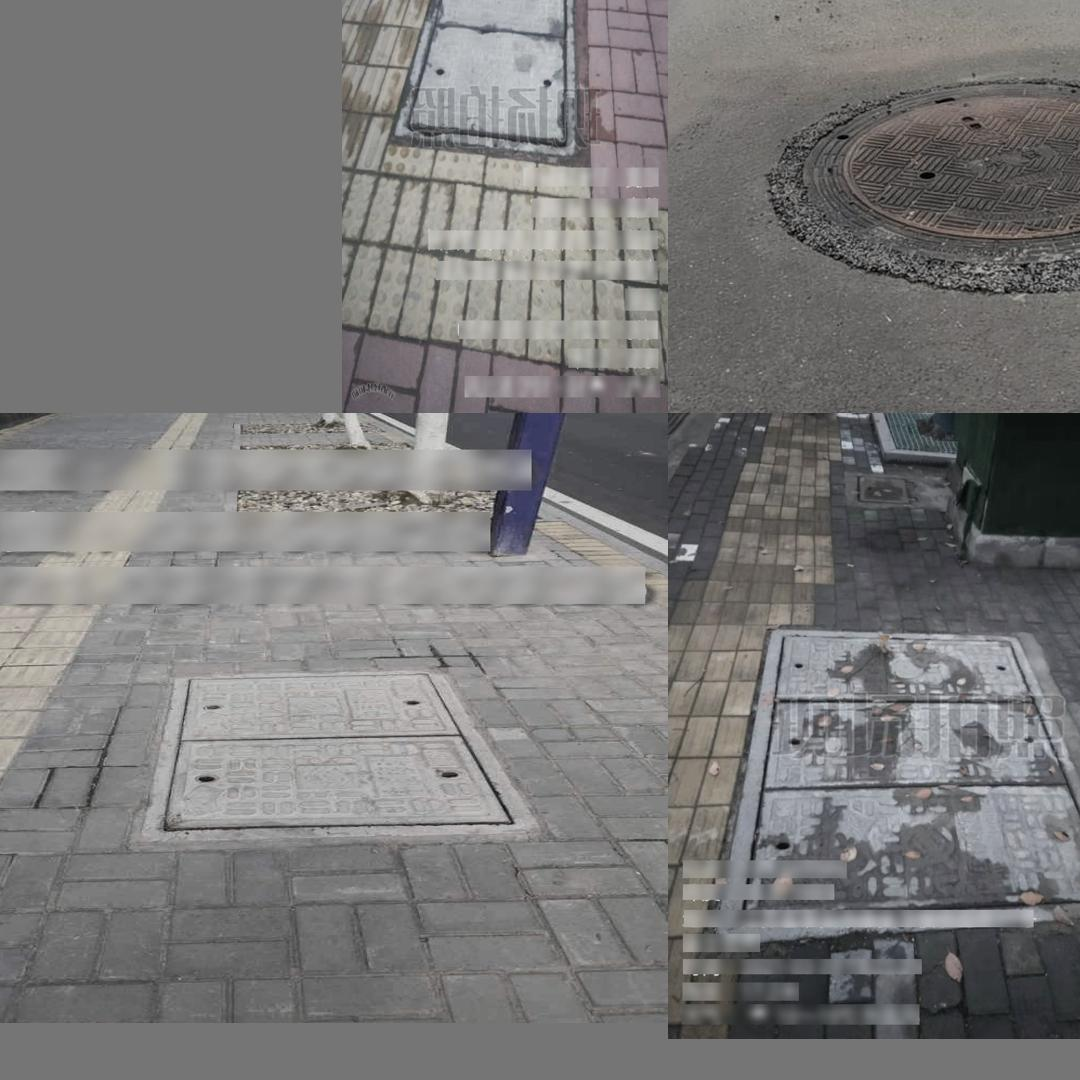good: (715, 626, 1080, 938), (750, 57, 1080, 310), (140, 668, 544, 838), (393, 0, 574, 153)
